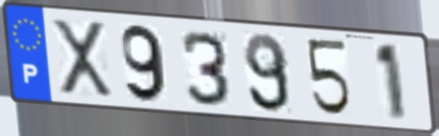1: (373, 42, 409, 122)
3: (179, 28, 234, 108)
5: (303, 36, 352, 118)
9: (242, 30, 295, 116), (118, 22, 170, 105)
X: (48, 16, 116, 99)
